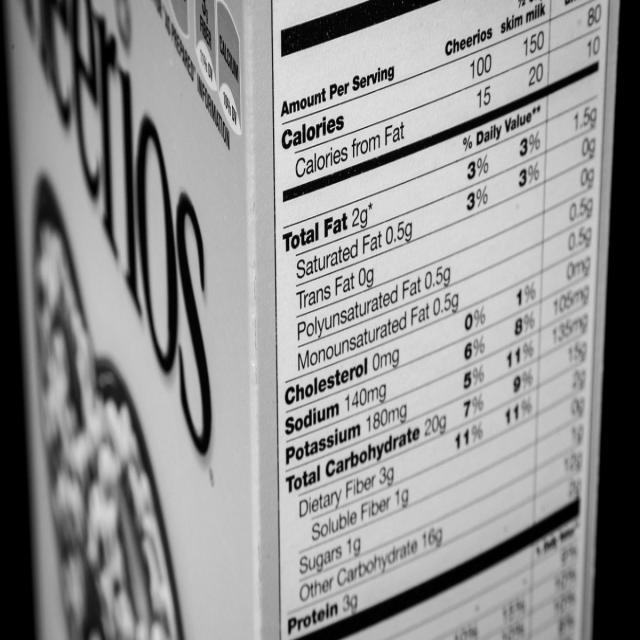Nutrition Label: (275, 0, 616, 640)
